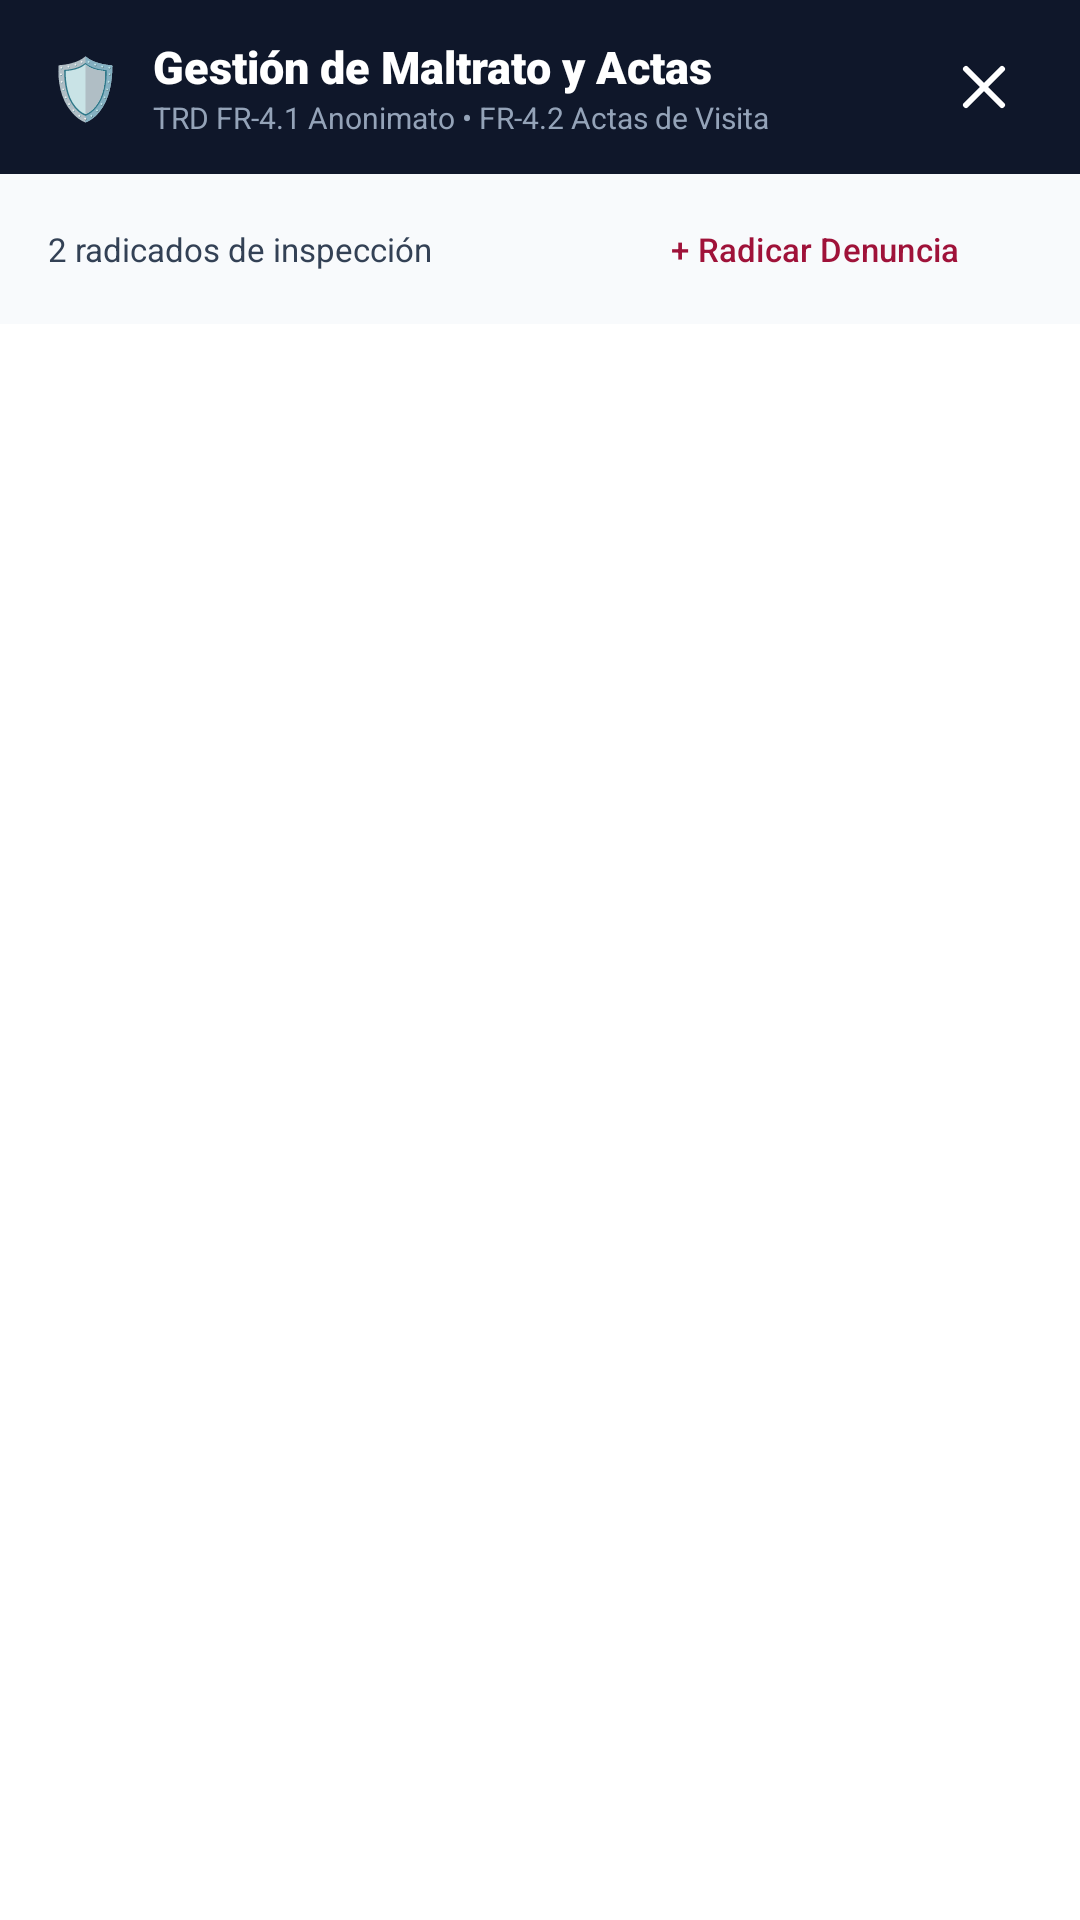

Named icons in this screenshot (1080px x 1920px) and their centers, (x=x, y=y):
close: (x=984, y=87)
